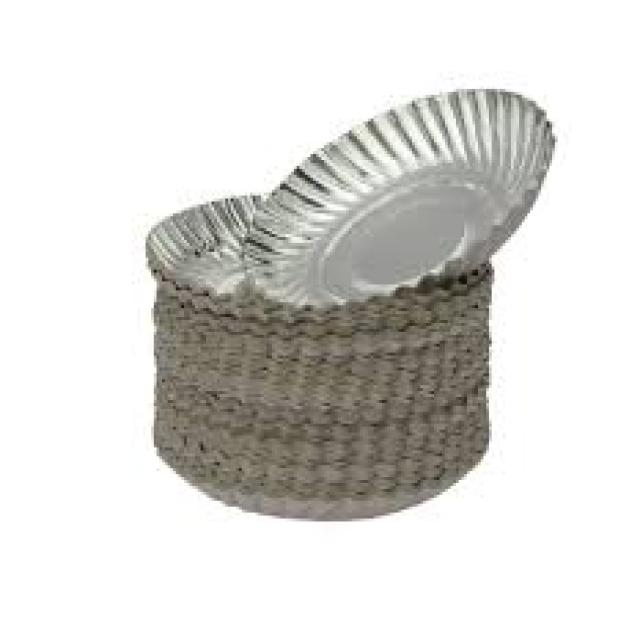PaperCardboard: (141, 88, 557, 526)
